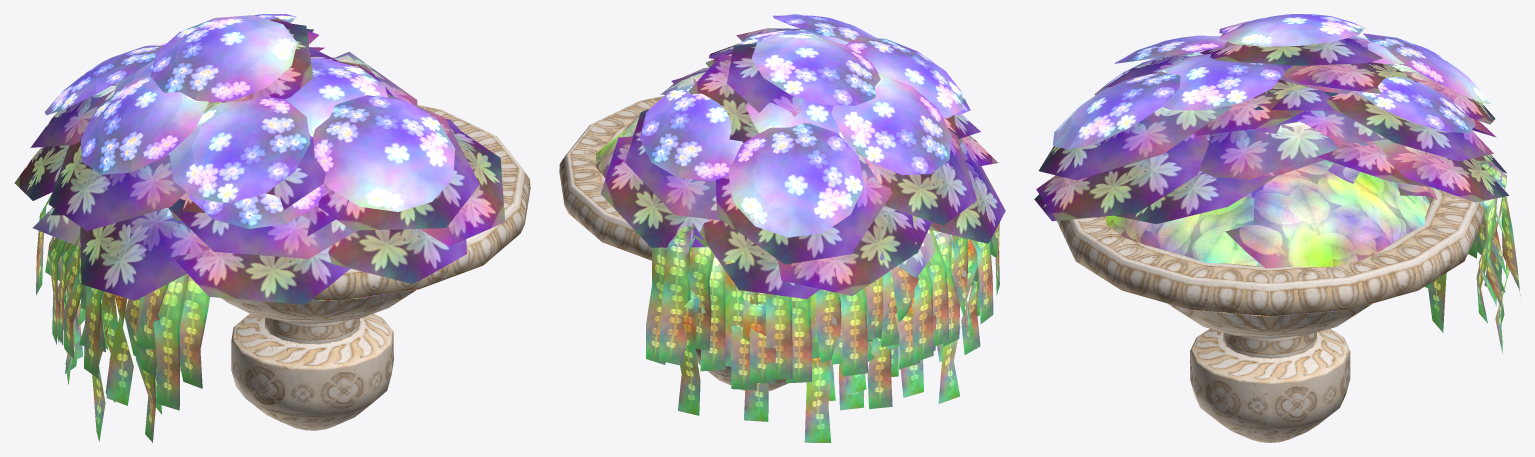
File: smallbowl02_SM.fbx
The picture shows the model from 3 angles, left to right: view 1: azimuth 30°, elevation 25°; view 2: azimuth 150°, elevation 25°; view 3: azimuth 270°, elevation 25°; orthographic projection. The views are drawn at different scales.
Parts seen in each view (by area): view 1: smallbowl02_SM_LOD0; view 2: smallbowl02_SM_LOD0; view 3: smallbowl02_SM_LOD0.
Part boxes in pixels (x1,y1,x2,y2): smallbowl02_SM_LOD0: (14, 14, 530, 442); smallbowl02_SM_LOD0: (559, 14, 1005, 442); smallbowl02_SM_LOD0: (1034, 14, 1520, 442).
Bounding box in the file's own units: 176 × 175 × 155.
8 materials, 8 textured.
